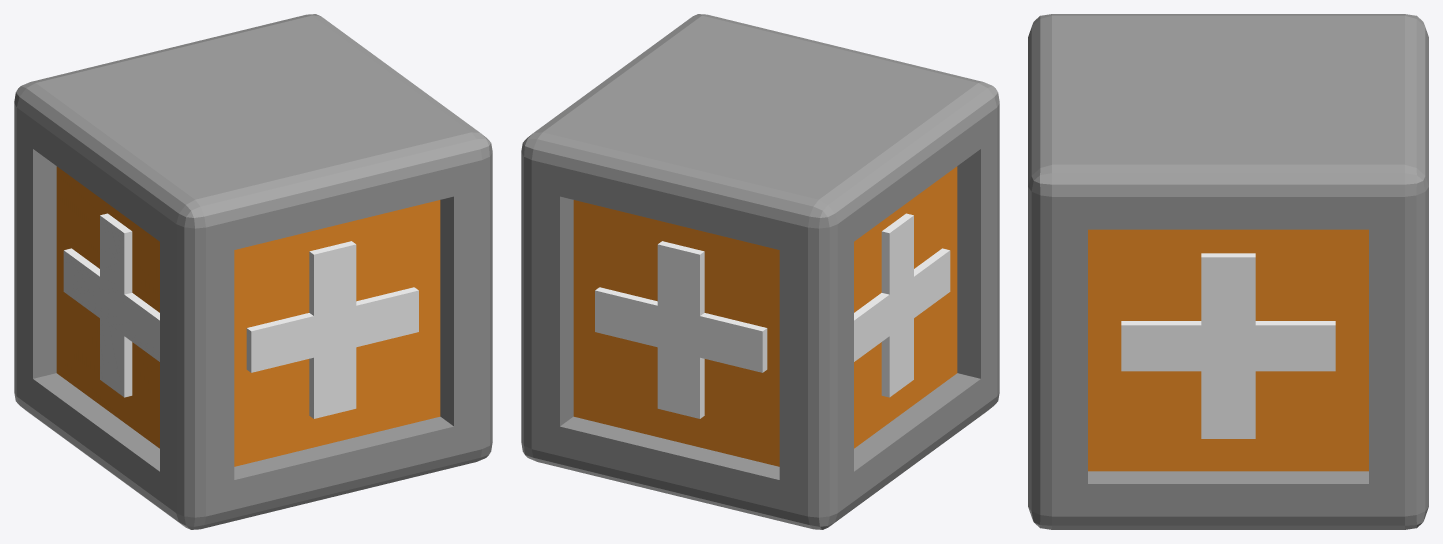
File: Health Box.fbx
3 renders of one model, left to right at view 1: azimuth 30°, elevation 25°; view 2: azimuth 150°, elevation 25°; view 3: azimuth 270°, elevation 25°, orthographic. The views are drawn at different scales.
Parts seen in each view (by area): view 1: Health Box, Plus Icon; view 2: Health Box, Plus Icon; view 3: Health Box, Plus Icon.
Boxes of the visible parts, bbox=[...] form: Health Box: bbox=[14, 14, 492, 529]; Plus Icon: bbox=[63, 213, 418, 418]; Health Box: bbox=[521, 14, 999, 529]; Plus Icon: bbox=[595, 213, 950, 418]; Health Box: bbox=[1028, 14, 1428, 529]; Plus Icon: bbox=[1121, 253, 1335, 438].
Size of the model in its own units: 200 by 200 by 200.
